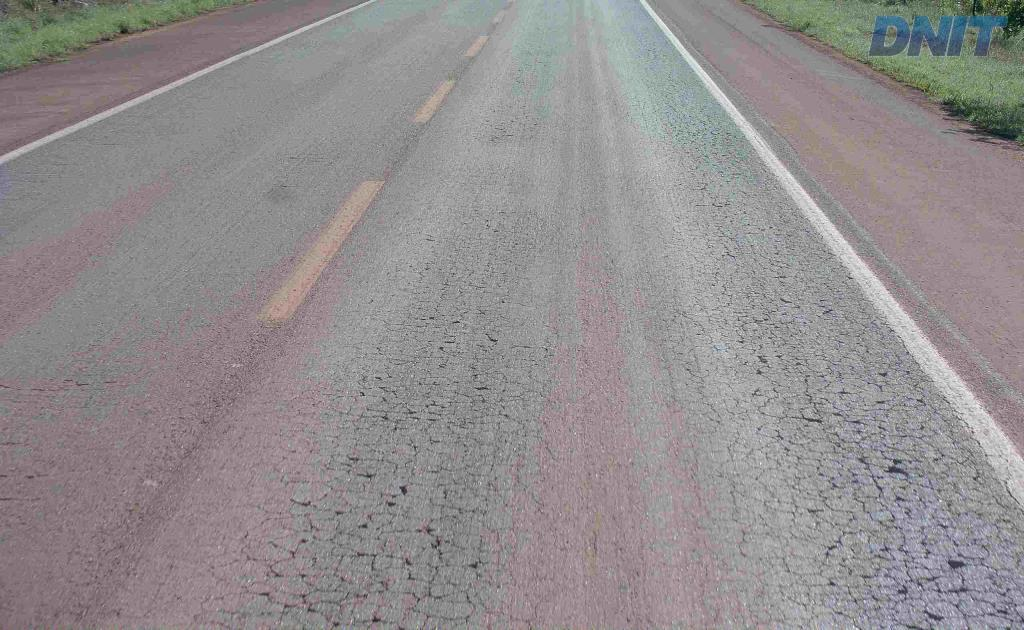crack: (903, 555, 979, 597)
